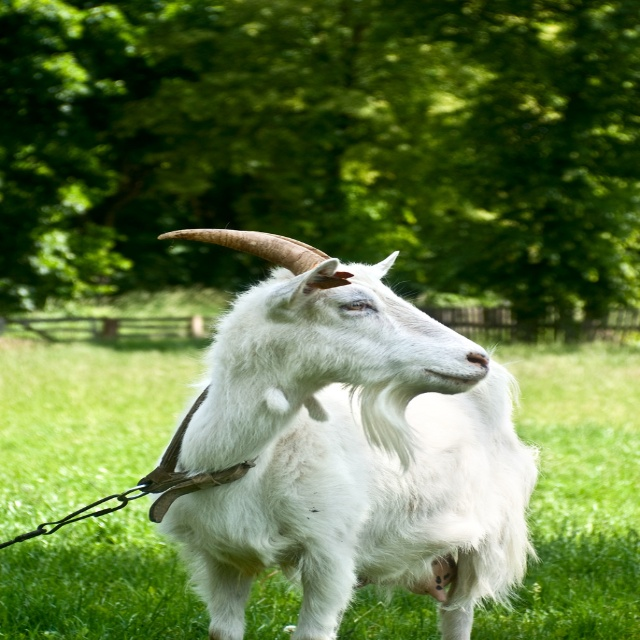Goat: (156, 228, 541, 640)
